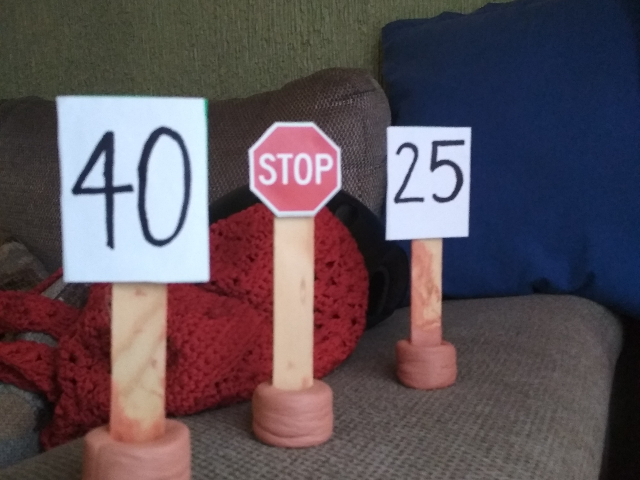Speed Limit 25: (374, 116, 481, 247)
Speed Limit 40: (44, 84, 221, 292)
Stop Sign: (241, 115, 349, 222)
